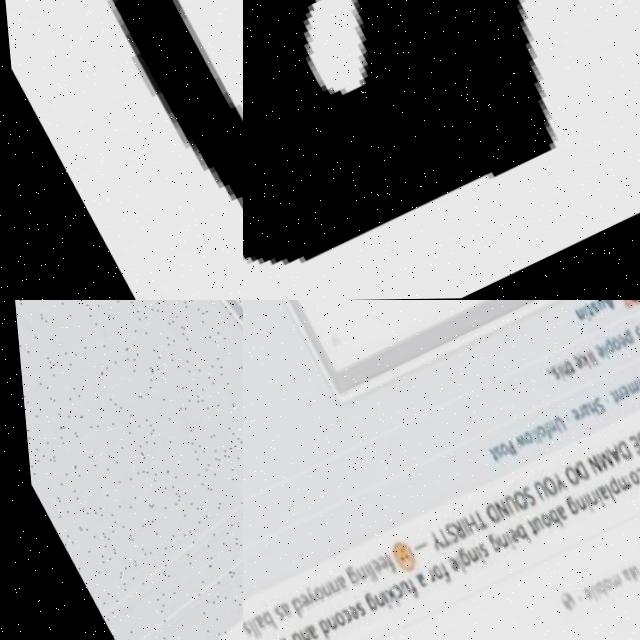0: (0, 0, 243, 300)
2: (635, 325, 640, 344)
3: (630, 328, 640, 346)
A: (600, 446, 618, 469), (546, 505, 564, 524), (269, 601, 286, 620), (295, 622, 311, 640), (405, 573, 420, 591), (327, 576, 342, 594), (244, 614, 259, 632), (589, 486, 604, 503), (597, 300, 614, 314), (612, 569, 624, 585), (575, 405, 587, 420)
B: (506, 525, 526, 549), (252, 611, 269, 633), (540, 510, 556, 532), (587, 582, 600, 600)
C: (330, 608, 346, 626), (383, 585, 396, 601), (628, 468, 640, 485)
D: (476, 505, 495, 527), (567, 462, 584, 485), (282, 597, 299, 619), (610, 442, 627, 464), (308, 619, 324, 640), (280, 632, 296, 640)
E: (622, 437, 638, 458), (500, 526, 515, 545), (361, 558, 376, 577), (439, 557, 454, 575), (337, 604, 352, 621), (290, 593, 303, 610), (369, 556, 382, 572), (573, 588, 585, 603), (615, 386, 627, 401), (564, 410, 576, 425), (612, 335, 624, 350), (568, 356, 580, 371), (590, 347, 601, 360)
F: (396, 578, 412, 603), (429, 563, 445, 587), (376, 554, 391, 575), (537, 426, 547, 442)
G: (448, 548, 465, 569), (478, 534, 495, 554), (354, 592, 369, 614), (557, 497, 573, 517), (336, 566, 352, 586), (637, 553, 640, 571)
H: (455, 515, 474, 537), (554, 364, 568, 382), (583, 402, 596, 420)
I: (587, 490, 599, 509), (497, 533, 509, 552), (466, 547, 478, 566), (372, 591, 384, 610), (355, 565, 366, 584), (576, 496, 587, 514), (452, 520, 463, 538), (551, 367, 562, 384), (582, 585, 592, 600), (582, 354, 592, 369), (578, 309, 588, 324), (619, 568, 629, 583)
K: (376, 588, 392, 609), (575, 354, 588, 372)
L: (446, 557, 459, 576), (598, 486, 610, 505), (579, 586, 590, 604), (243, 618, 253, 637), (359, 565, 369, 582), (528, 430, 538, 445), (585, 352, 595, 367), (525, 431, 534, 447), (598, 347, 606, 361), (243, 621, 249, 639)
M: (608, 475, 628, 495), (590, 452, 609, 473), (599, 574, 615, 591), (621, 381, 637, 398), (630, 376, 640, 393)
N: (579, 456, 597, 477), (486, 501, 504, 522), (488, 533, 502, 551), (316, 615, 330, 633), (320, 578, 334, 596), (579, 490, 593, 507), (567, 497, 581, 514), (459, 549, 473, 565), (312, 583, 325, 600), (364, 593, 377, 609), (347, 567, 360, 583), (571, 308, 584, 323), (289, 628, 303, 640), (610, 390, 621, 403), (541, 422, 552, 435)
O: (554, 465, 575, 489), (535, 477, 553, 499), (505, 491, 523, 513), (323, 611, 339, 630), (531, 512, 546, 531), (621, 472, 635, 489), (423, 565, 437, 582), (303, 587, 317, 604), (530, 425, 544, 441), (517, 431, 529, 447), (493, 444, 505, 459), (607, 338, 619, 353), (630, 560, 640, 575), (594, 580, 605, 593)
P: (243, 0, 547, 266), (599, 478, 615, 498), (617, 329, 631, 347), (499, 440, 512, 458), (599, 340, 612, 356)
R: (444, 521, 460, 542), (416, 569, 429, 585), (573, 408, 581, 420)
S: (513, 487, 532, 510), (436, 524, 453, 546), (588, 398, 602, 417), (629, 433, 640, 455), (345, 602, 358, 619), (470, 544, 483, 560), (265, 607, 278, 623), (544, 367, 557, 383), (487, 446, 499, 461), (586, 302, 596, 315)
T: (427, 528, 446, 550), (464, 510, 481, 531), (518, 522, 531, 539), (481, 448, 494, 465), (560, 361, 572, 376), (580, 305, 592, 320), (604, 393, 615, 408)
U: (494, 495, 513, 517), (526, 481, 544, 504), (548, 417, 563, 436), (390, 581, 404, 597), (525, 518, 537, 534), (592, 300, 603, 312), (636, 429, 640, 451)
V: (622, 566, 633, 579)
W: (507, 435, 523, 452)
Y: (544, 473, 563, 495), (418, 531, 437, 553), (294, 586, 309, 605)
